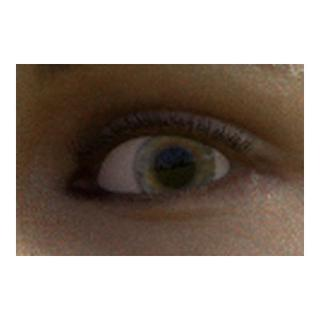pupil: (154, 148, 194, 188)
